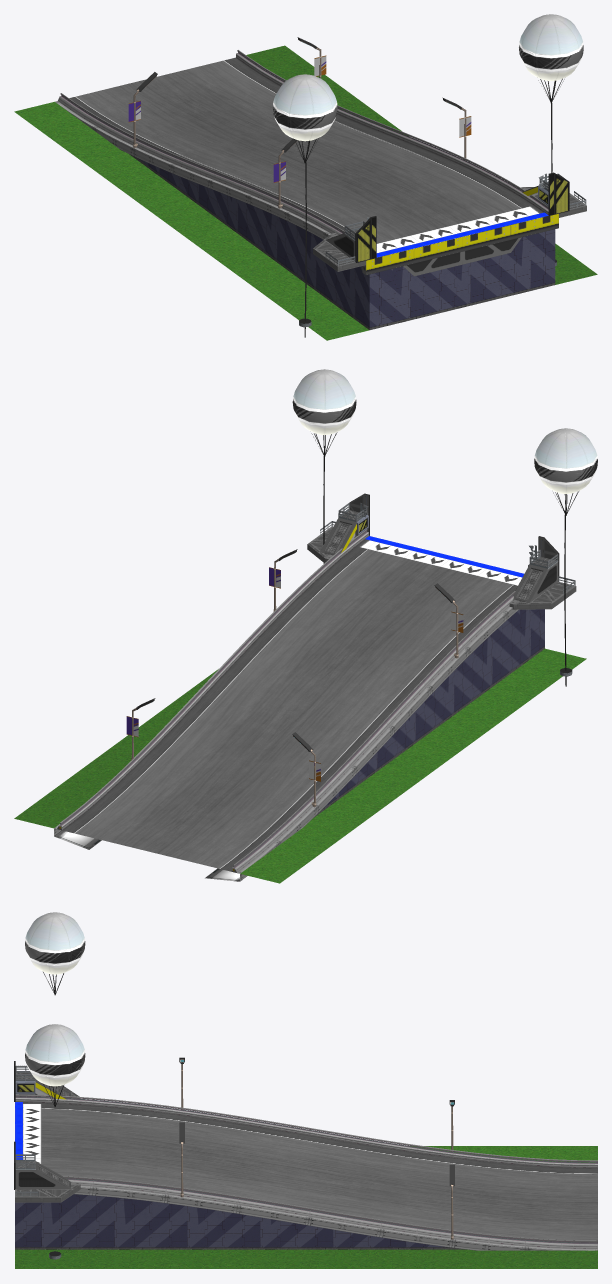
File: T31 - Ground.fbx
3 views of the same model, one above another, from view 1: azimuth 30°, elevation 25°; view 2: azimuth 150°, elevation 25°; view 3: azimuth 270°, elevation 25° (orthographic). The views are drawn at different scales.
Parts seen in each view (by area): view 1: straight_road, retainer, standard_ground_grass, balloon_top, barrier_elevated3, frontplate_landing, gate, standard_bridge1, flt_lines_landing, pro_streetlight_banner_1, balloon_tether, pro_streetlight_banner_2; view 2: straight_road, standard_ground_grass, retainer, balloon_top, barrier_elevated3, gate, standard_bridge1, flt_lines_landing; view 3: straight_road, retainer, standard_ground_grass, barrier_elevated3, balloon_top, standard_bridge1, gate, flt_lines_landing.
Boxes of the visible parts, left/top/right/bottom form: straight_road: left=69, top=57, right=543, bottom=243; retainer: left=129, top=154, right=555, bottom=330; standard_ground_grass: left=14, top=45, right=597, bottom=340; balloon_top: left=272, top=14, right=583, bottom=163; barrier_elevated3: left=58, top=50, right=548, bottom=234; frontplate_landing: left=362, top=213, right=558, bottom=276; gate: left=313, top=172, right=586, bottom=271; standard_bridge1: left=55, top=101, right=537, bottom=239; flt_lines_landing: left=376, top=206, right=548, bottom=257; pro_streetlight_banner_1: left=128, top=72, right=157, bottom=147; balloon_tether: left=304, top=98, right=552, bottom=337; pro_streetlight_banner_2: left=273, top=138, right=297, bottom=208; straight_road: left=62, top=539, right=517, bottom=871; standard_ground_grass: left=14, top=648, right=586, bottom=883; retainer: left=314, top=609, right=544, bottom=817; balloon_top: left=292, top=369, right=597, bottom=515; barrier_elevated3: left=57, top=529, right=515, bottom=872; gate: left=307, top=493, right=576, bottom=609; standard_bridge1: left=54, top=597, right=518, bottom=881; flt_lines_landing: left=359, top=536, right=524, bottom=585; straight_road: left=23, top=1102, right=597, bottom=1242; retainer: left=15, top=1194, right=465, bottom=1249; standard_ground_grass: left=15, top=1146, right=597, bottom=1268; barrier_elevated3: left=15, top=1094, right=597, bottom=1249; balloon_top: left=25, top=912, right=85, bottom=1106; standard_bridge1: left=74, top=1186, right=597, bottom=1250; gate: left=14, top=1061, right=80, bottom=1202; flt_lines_landing: left=15, top=1102, right=41, bottom=1164.
Bounding box in the file's own units: 7142 × 5895 × 12823.
